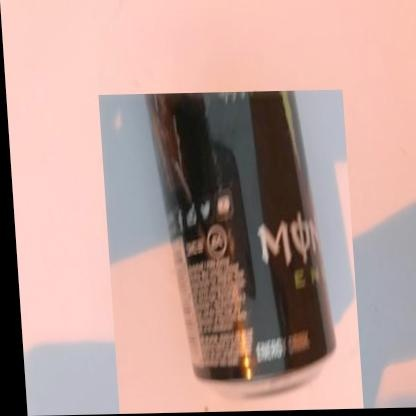trash: (147, 92, 334, 379)
